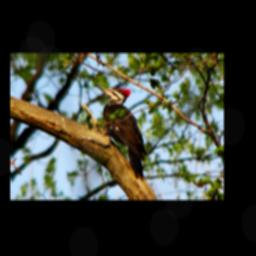Woodpecker: (91, 82, 150, 182)
